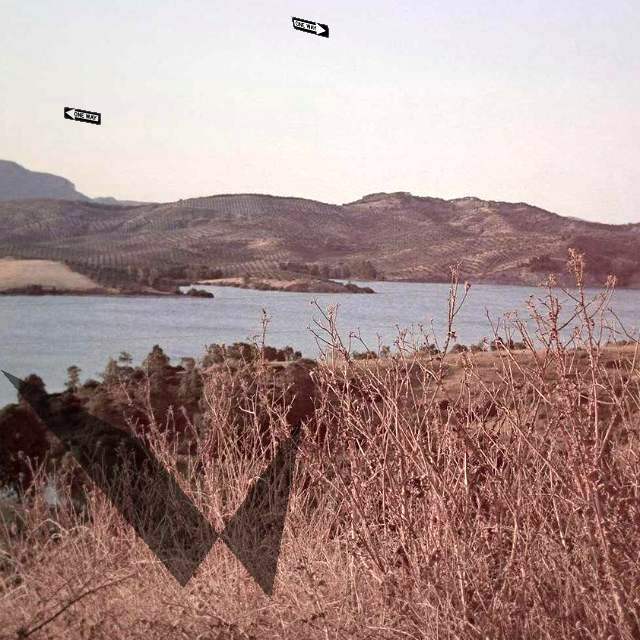ONE_WAY_ left: (63, 106, 101, 125)
ONE_WAY_ right: (291, 16, 329, 38)
